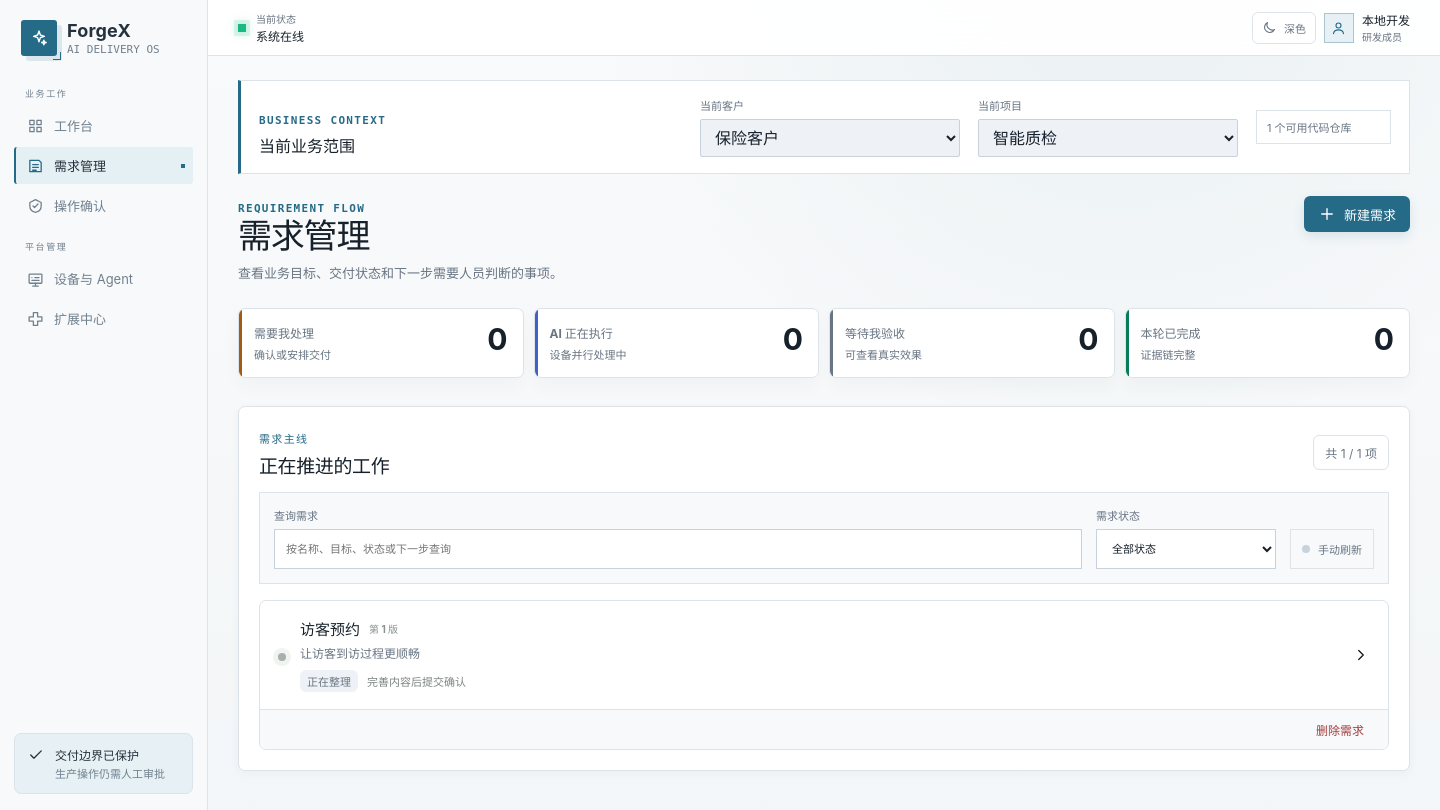
RequirementWorkbench › 删除需求前二次确认，完成后关闭详情并刷新列表
Click the button "删除需求" at [1340, 729], box [1310,720,1370,739]
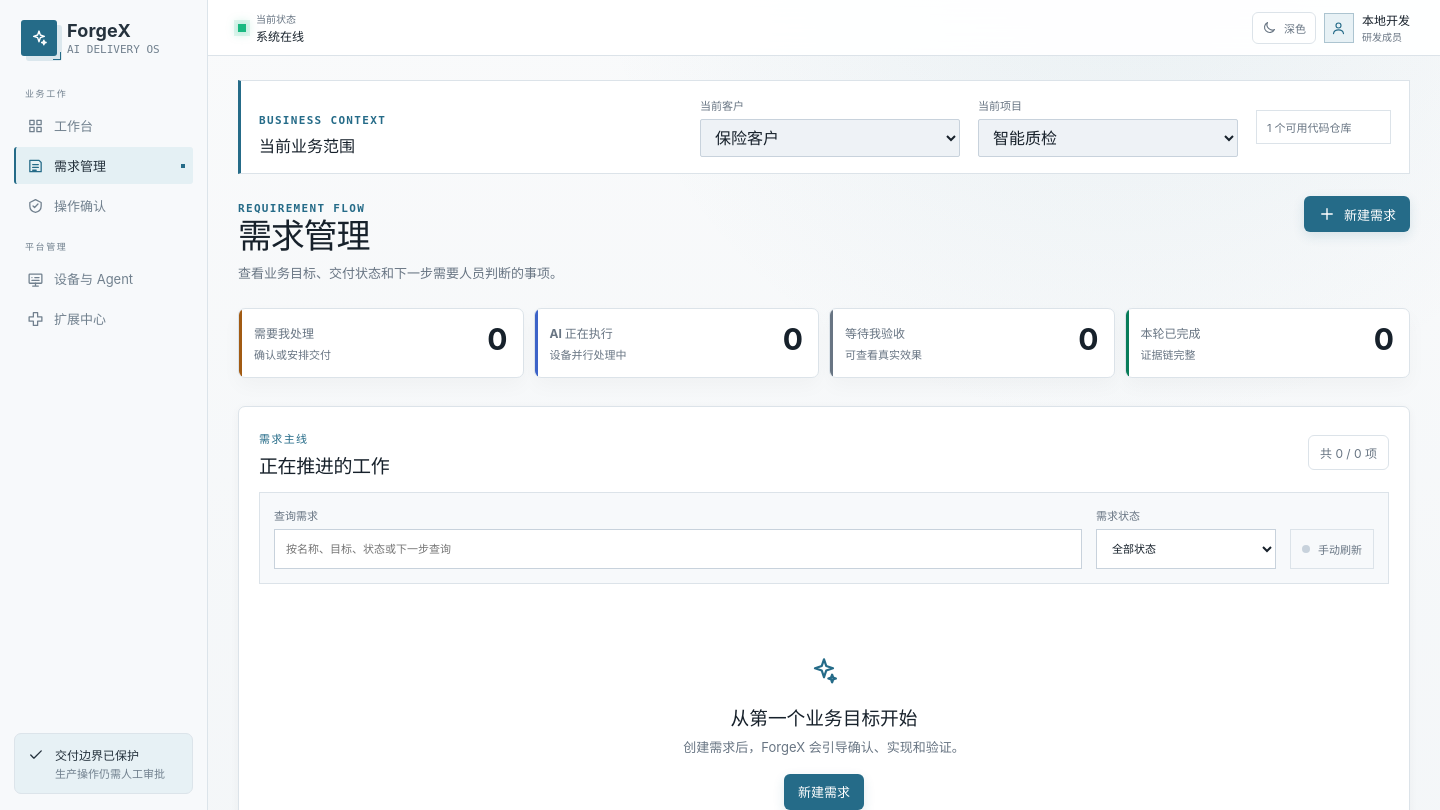
Now the button "访客预约" is gone
